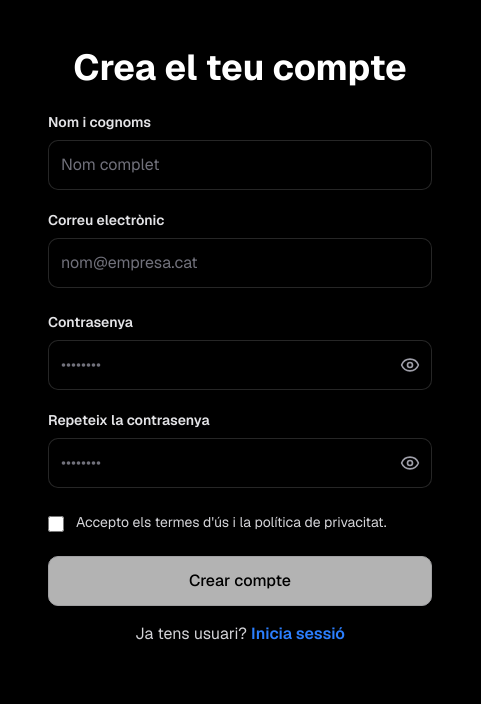
Formulari de Registre (SignUpPage) › ha de mostrar un error si les contrasenyes no coincideixen
# Omplim nom i email (necessari per arribar a la validació de contrasenyes)
Type "Testimoni Usuari" into the field with placeholder "Nom complet" at x=240, y=165, box [48,140,432,190]
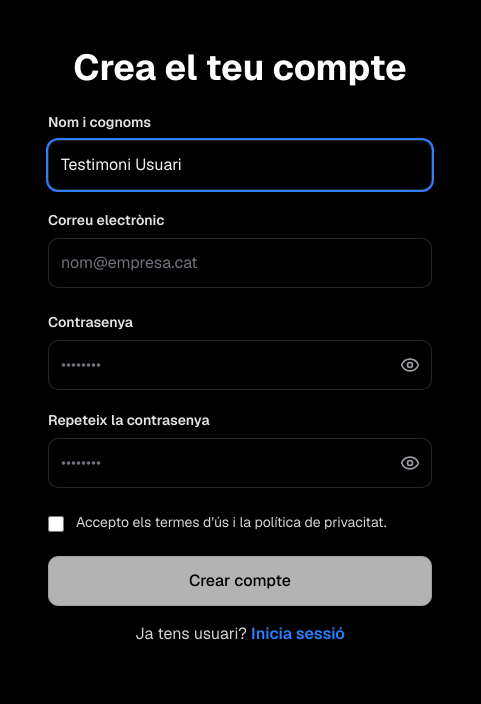
Type "test@example.com" into the field with placeholder "nom@empresa.cat" at x=240, y=263, box [48,238,432,288]
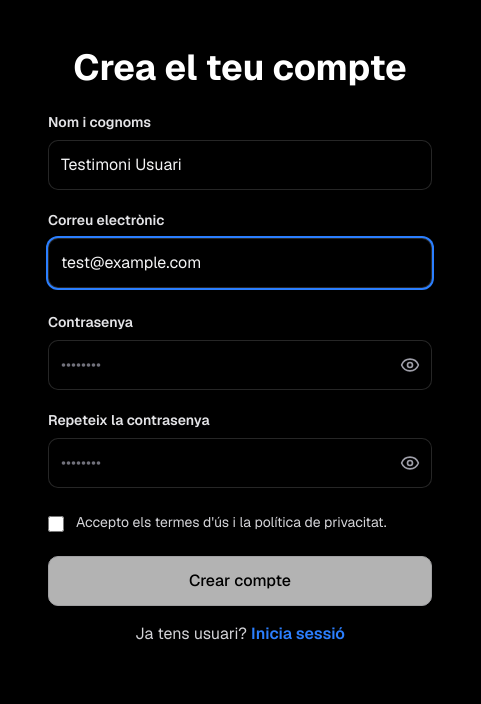
# Escrivim contrasenyes diferents
Type "Contrasenya123!" into the 1st password field with placeholder "••••••••" at x=240, y=365, box [48,340,432,390]
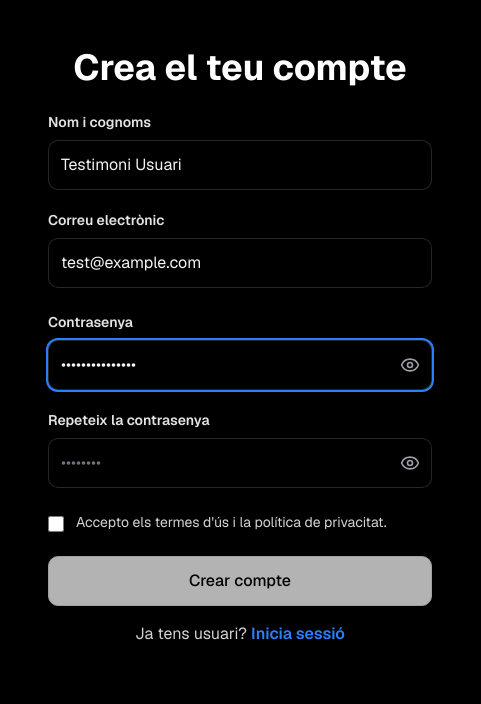
Type "Diferent456!" into the password field with placeholder "••••••••" at x=240, y=463, box [48,438,432,488]
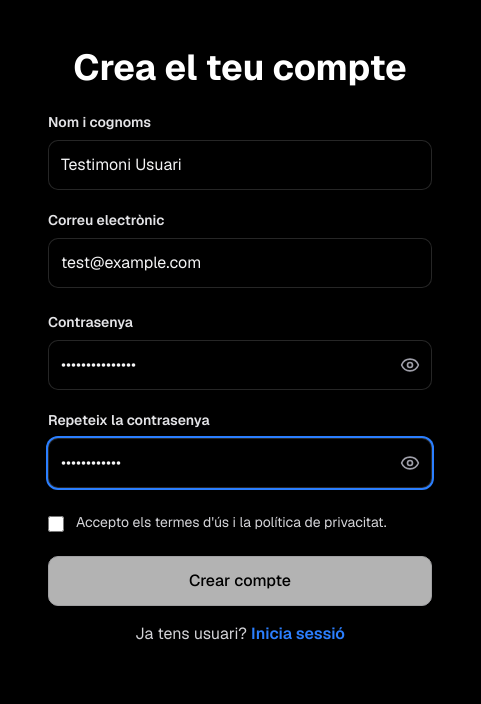
# Marca el checkbox de termes
Click the checkbox at x=56, y=524, box [48,516,64,532]
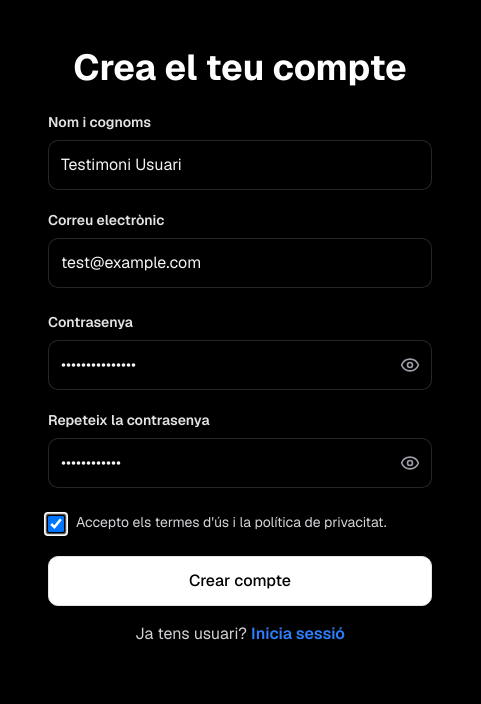
Submit the form named "crear compte"
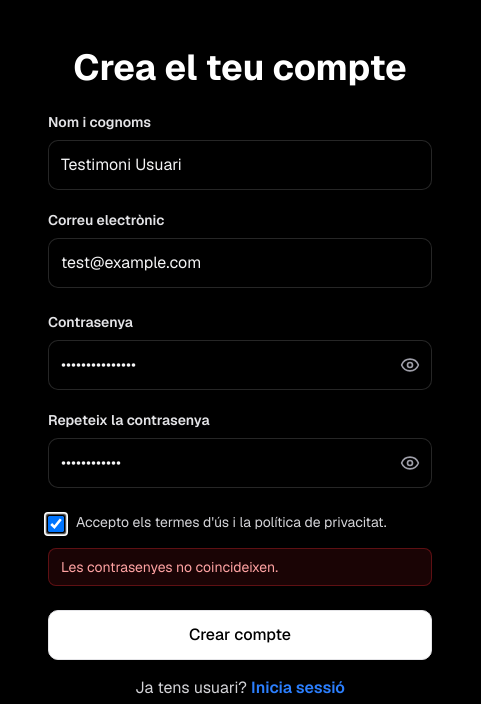
Expected: the text "Les contrasenyes no coincideixen." is shown, [48,548,432,586]
